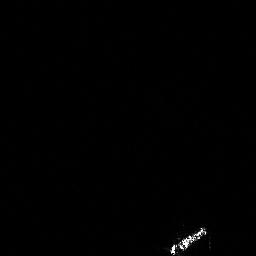ship: (167, 222, 210, 256)
